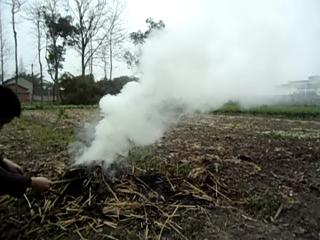yanwu: (81, 18, 291, 162)
